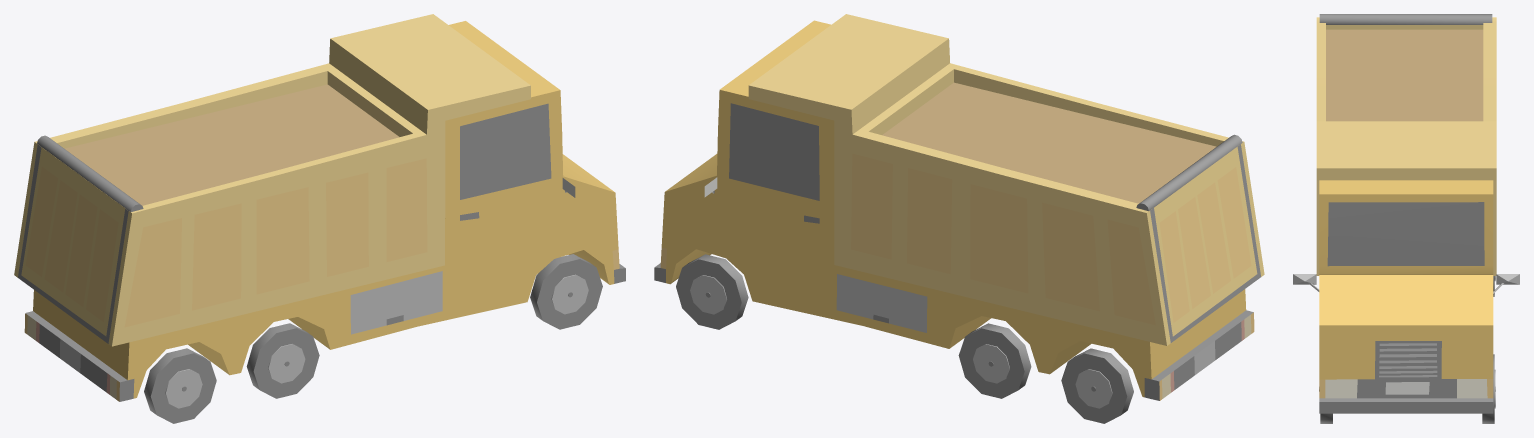
File: truck2.fbx
3 views of the same model, side by side, from view 1: azimuth 30°, elevation 25°; view 2: azimuth 150°, elevation 25°; view 3: azimuth 270°, elevation 25° (orthographic). The views are drawn at different scales.
Visible parts, largest first — view 1: Cylinder_2, Cylinder, Cylinder_9, Cylinder_6; view 2: Cylinder_2, Cylinder_8, Cylinder_1, Cylinder_7; view 3: Cylinder_2, Cylinder_7.
Part boxes in pixels (left/top/right/bottom): Cylinder_2: left=14, top=14, right=625, bottom=401; Cylinder: left=246, top=323, right=319, bottom=398; Cylinder_9: left=144, top=348, right=216, bottom=423; Cylinder_6: left=530, top=254, right=602, bottom=329; Cylinder_2: left=654, top=14, right=1264, bottom=400; Cylinder_8: left=1061, top=348, right=1133, bottom=423; Cylinder_1: left=958, top=323, right=1031, bottom=398; Cylinder_7: left=676, top=254, right=748, bottom=329; Cylinder_2: left=1293, top=14, right=1519, bottom=413; Cylinder_7: left=1482, top=354, right=1495, bottom=423.
Size of the model in its own units: 597 by 281 by 247.
